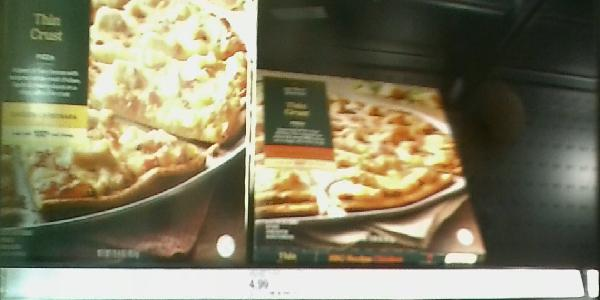pizza1: (1, 1, 250, 270), (251, 67, 489, 266)
